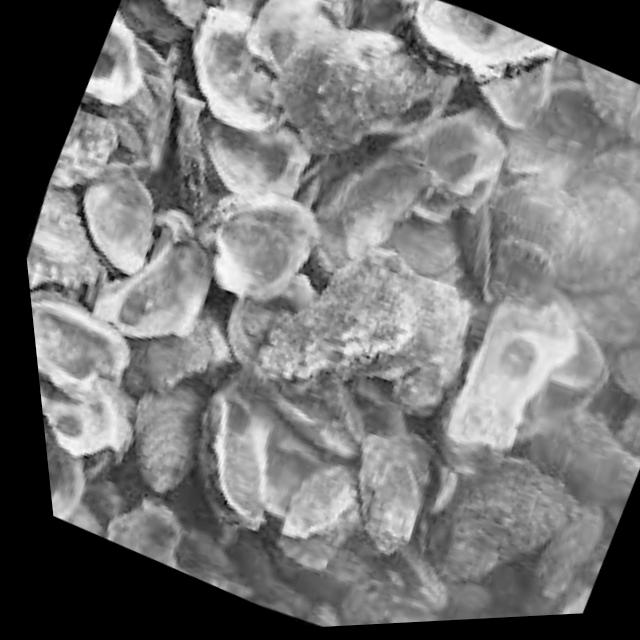Oyster-Closed: (174, 79, 229, 225)
Oyster-Indeterminate: (277, 19, 438, 153), (258, 260, 418, 379), (430, 457, 574, 582), (369, 248, 472, 413), (79, 12, 173, 178), (317, 152, 429, 275), (546, 163, 640, 292), (528, 409, 640, 507), (27, 187, 107, 306), (413, 110, 506, 211), (278, 465, 360, 570), (359, 434, 429, 555), (38, 370, 133, 456), (135, 388, 202, 493), (490, 209, 557, 302), (538, 508, 604, 602), (144, 320, 231, 390), (492, 171, 567, 246), (50, 109, 118, 188), (387, 217, 462, 285), (107, 500, 181, 568), (575, 274, 640, 350), (580, 60, 640, 141), (591, 348, 640, 432), (482, 67, 545, 129), (455, 205, 494, 302), (45, 435, 85, 521), (401, 550, 448, 611), (589, 148, 640, 204), (162, 0, 204, 28), (205, 0, 268, 18), (317, 0, 353, 26)
Oyster-Open: (441, 299, 576, 471), (202, 194, 319, 300), (407, 0, 556, 83), (93, 241, 211, 337), (194, 7, 282, 133), (200, 383, 274, 530), (30, 291, 130, 392), (203, 120, 310, 197), (84, 163, 153, 275), (85, 12, 143, 104)
